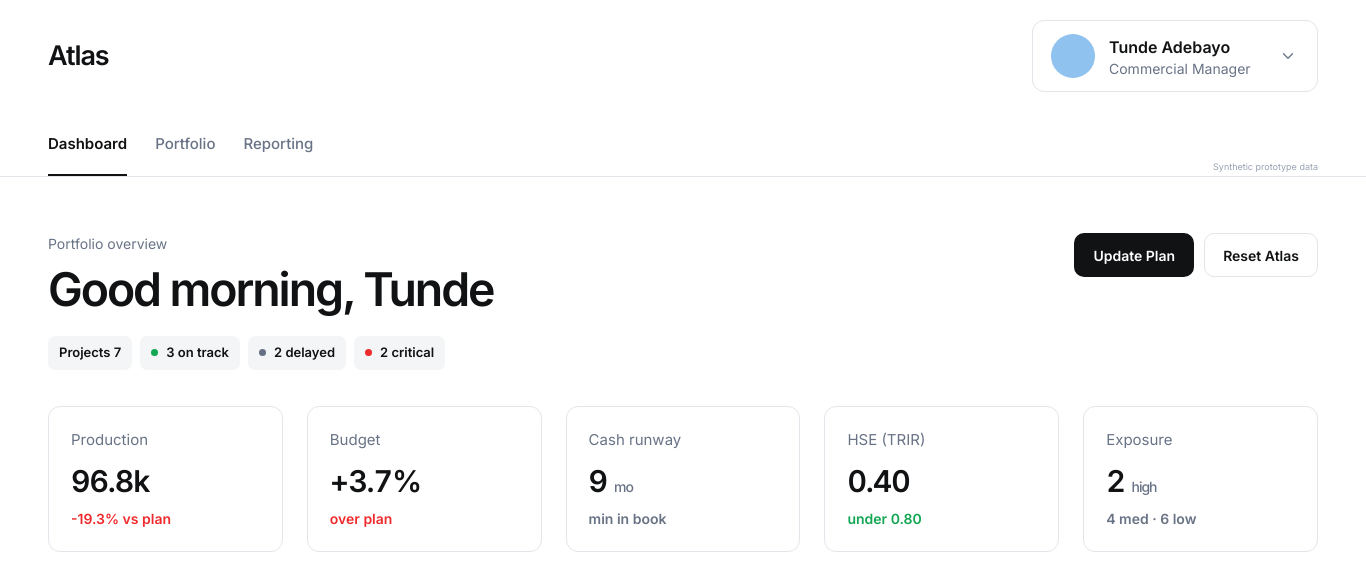
Test case: route architecture › keeps the CEO Dashboard focused on operational performance, risks and insights
The width and height of the screenshot is (1366, 581).
Select "Chief Executive Officer" in the dropdown named "Active demo persona" at (1175, 56), box 1032,20 -> 1318,92
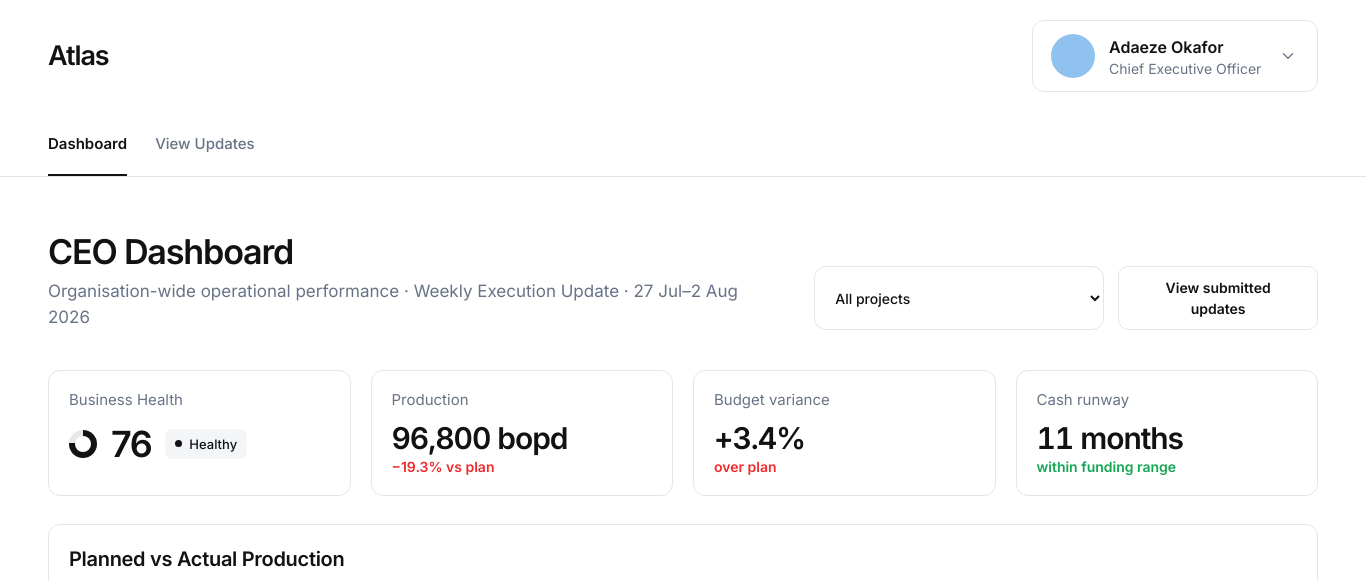
expect the heading "CEO Dashboard" is shown: met, box 48,231 -> 293,272
expect the text "Business Health" is shown: met, box 69,389 -> 183,412
expect the text "Budget variance" is shown: met, box 714,389 -> 830,412
Click the button "Production 96,800 bopd −19.3% vs plan".
click(522, 433)  # box 370,370 -> 673,496
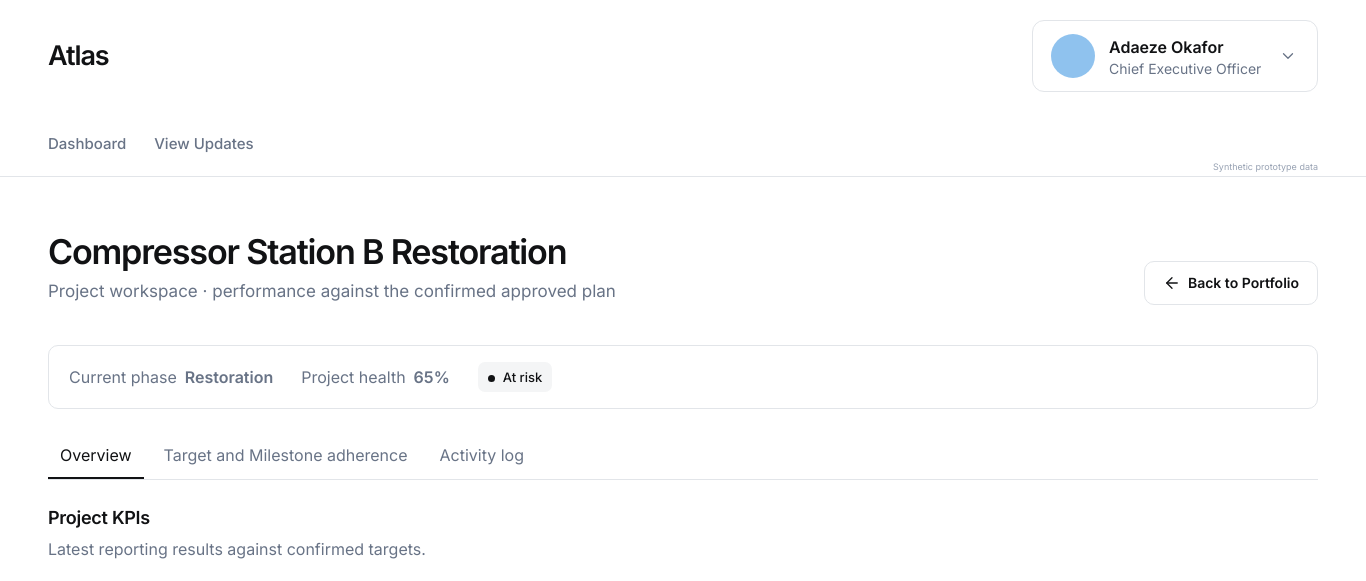
expect the heading "Compressor Station B Restoration" is shown: met, box 48,233 -> 616,271
